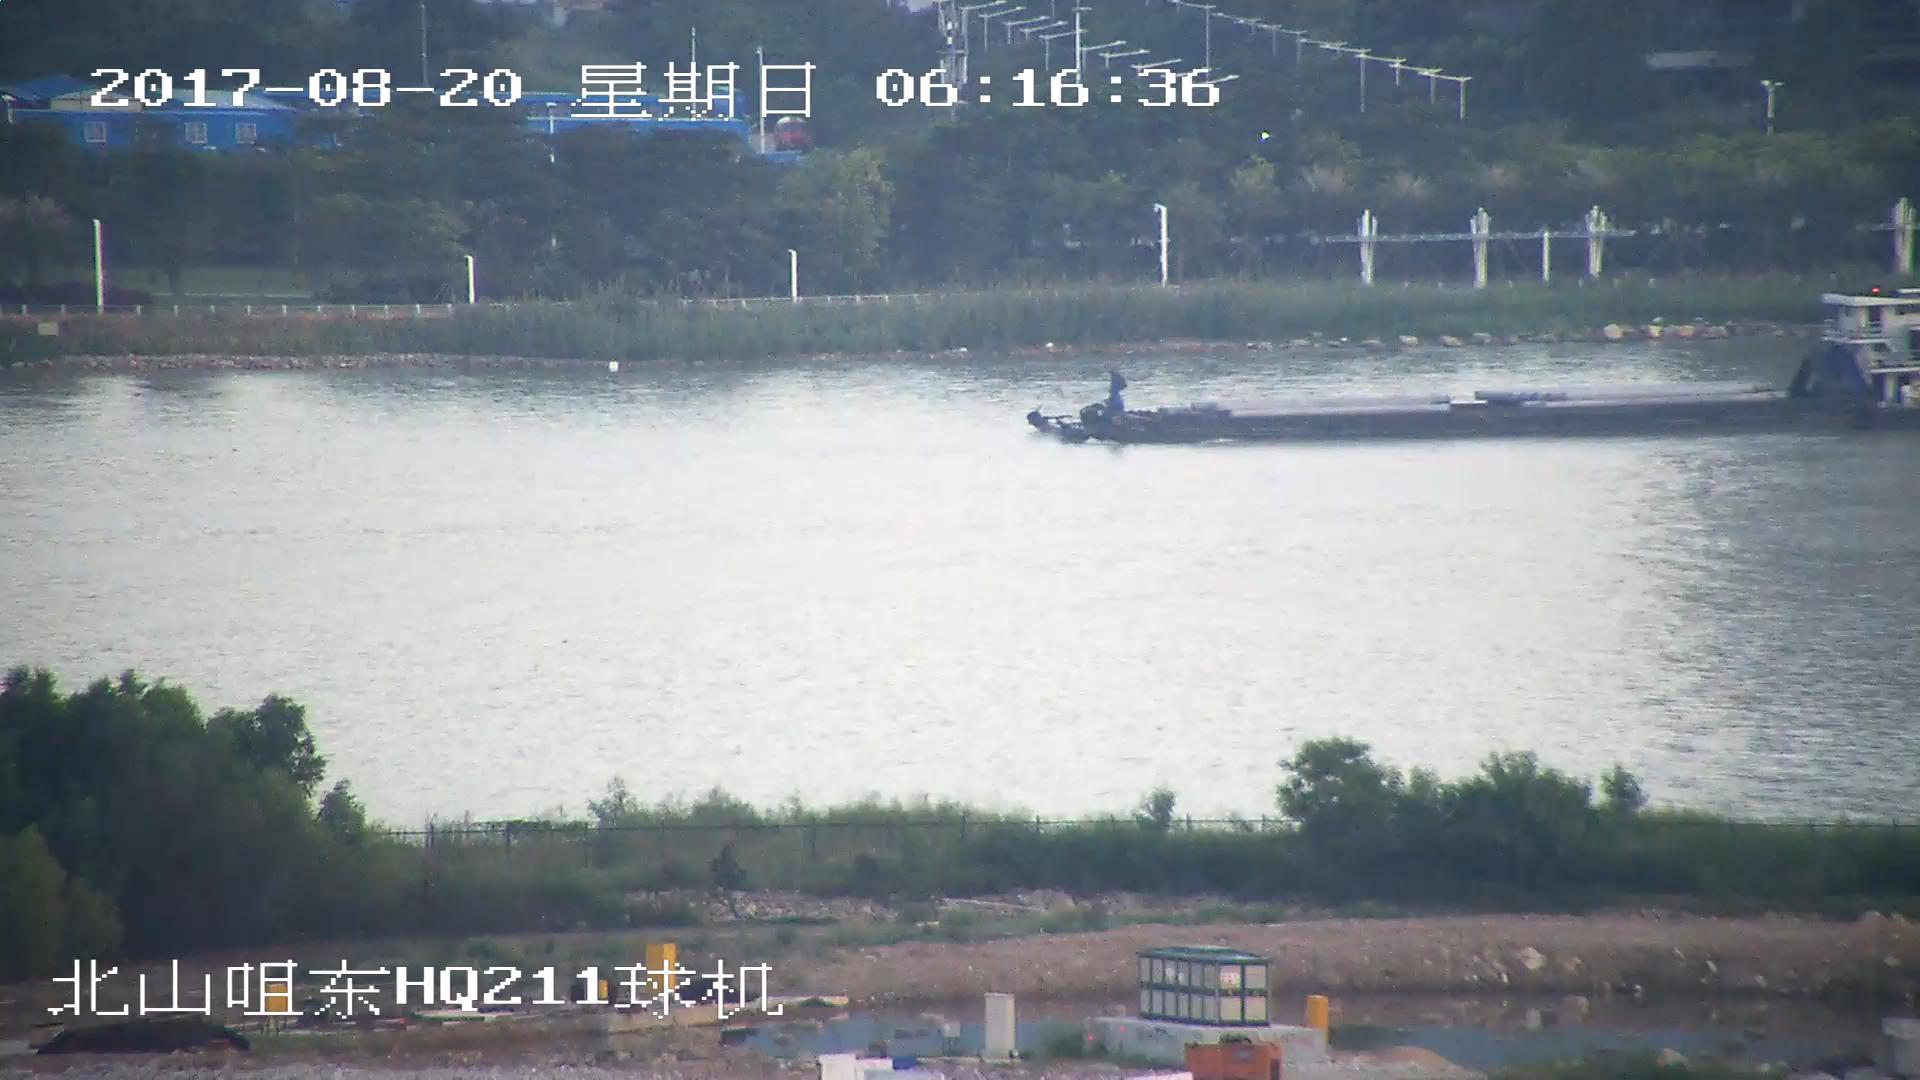Ship: (1025, 291, 1920, 440)
